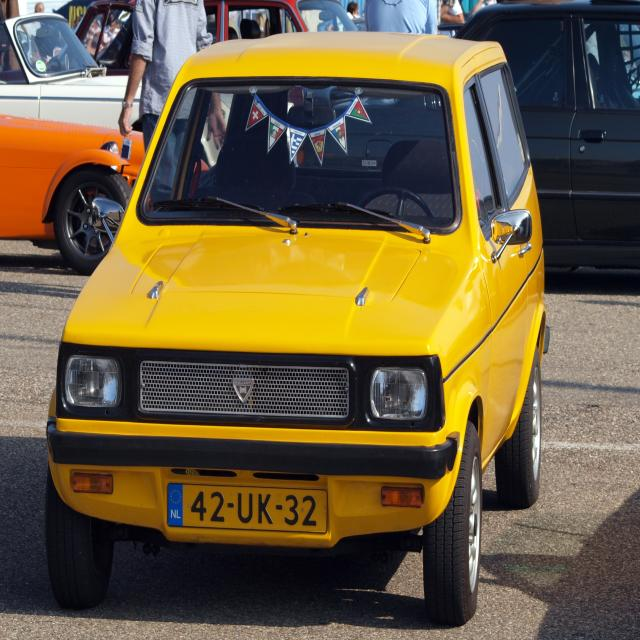num_plate: (170, 482, 329, 533)
